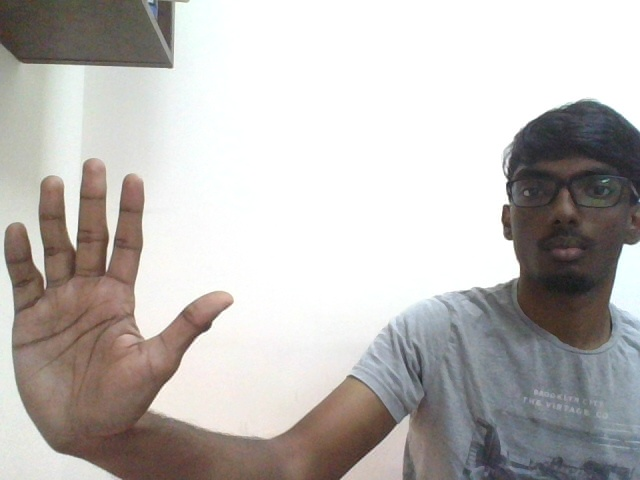Hello: (1, 157, 236, 440)
